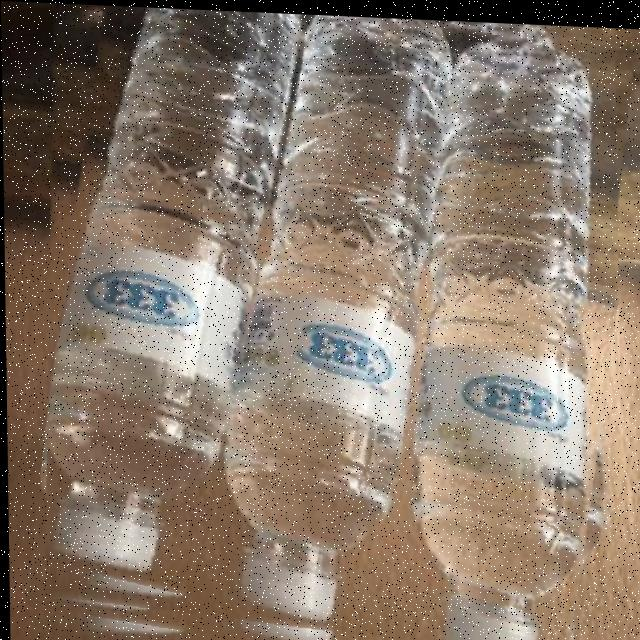litter: (35, 1, 621, 640)
